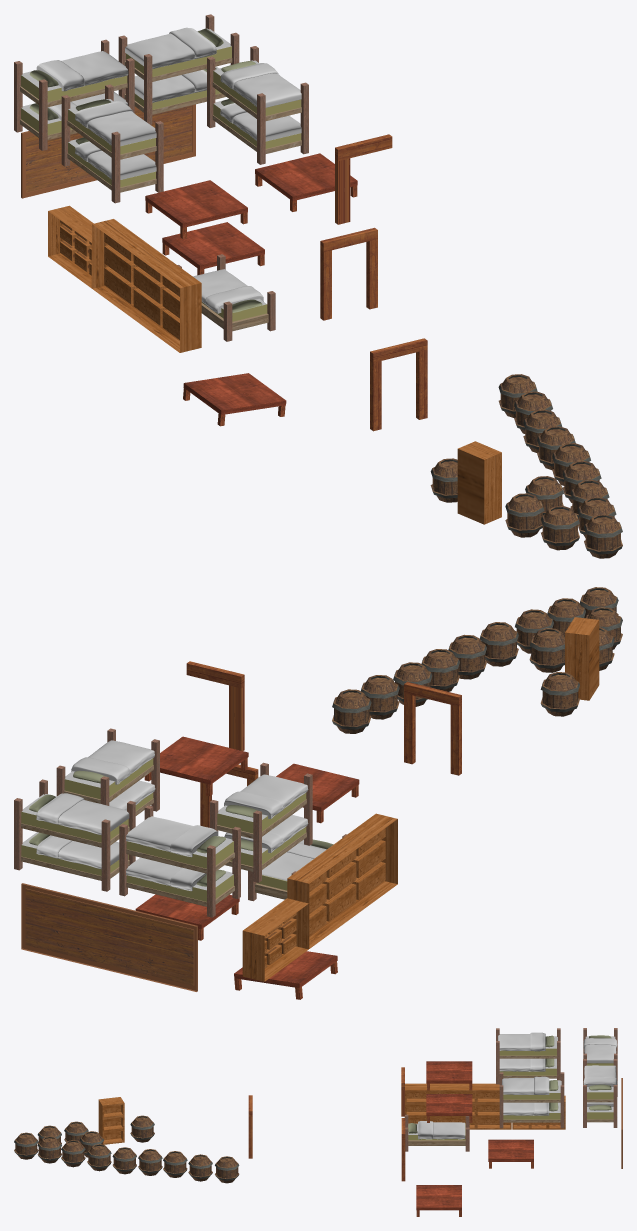
The model's file is reObj.fbx.
3 views of the same model, one above another, from view 1: azimuth 30°, elevation 25°; view 2: azimuth 150°, elevation 25°; view 3: azimuth 270°, elevation 25° (orthographic). The views are drawn at different scales.
Visible parts, largest first — view 1: Box041; view 2: Box041; view 3: Box041.
Boxes of the visible parts, box(x1,y1,x2,y2) form: Box041: box(14, 14, 622, 558); Box041: box(14, 587, 622, 999); Box041: box(14, 1028, 622, 1216).
Bounding box in the file's own units: 1929 × 2340 × 7983.
